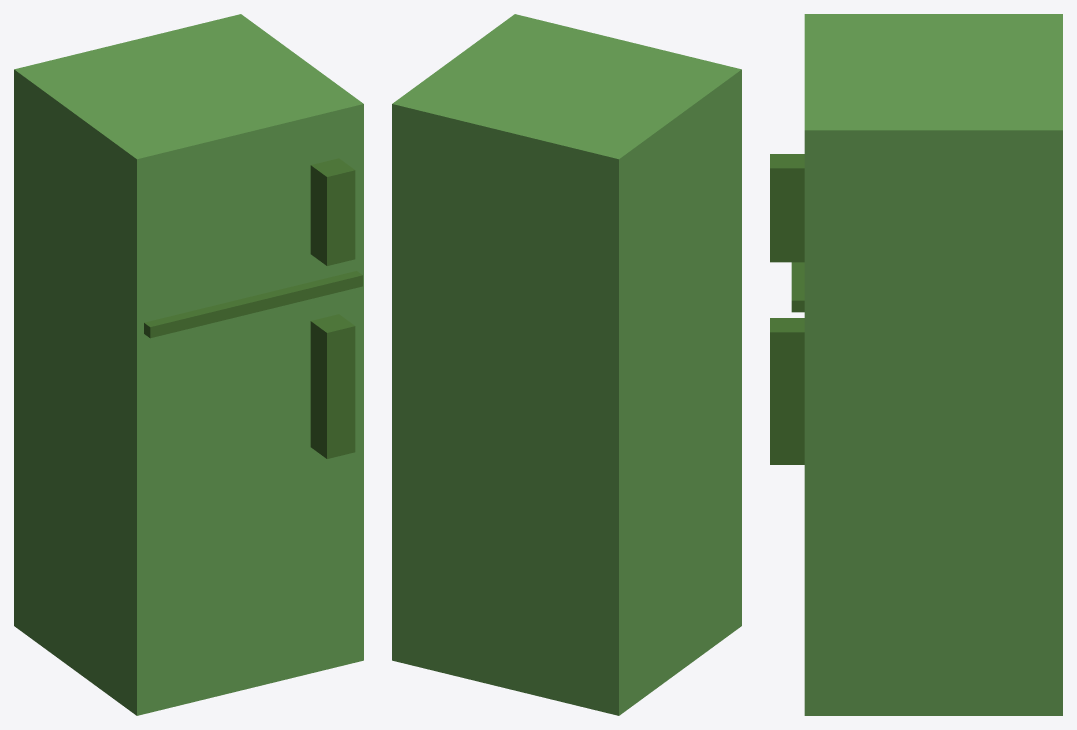
File: fridge.glb
The picture shows the model from 3 angles, left to right: view 1: azimuth 30°, elevation 25°; view 2: azimuth 150°, elevation 25°; view 3: azimuth 270°, elevation 25°; orthographic projection. The views are drawn at different scales.
Visible parts, largest first — view 1: fridge; view 2: fridge; view 3: fridge.
Part boxes in pixels (x1,y1,x2,y2): fridge: (14, 14, 363, 715); fridge: (392, 14, 741, 715); fridge: (770, 14, 1062, 715).
Bounding box in the file's own units: 64 × 150 × 68.
